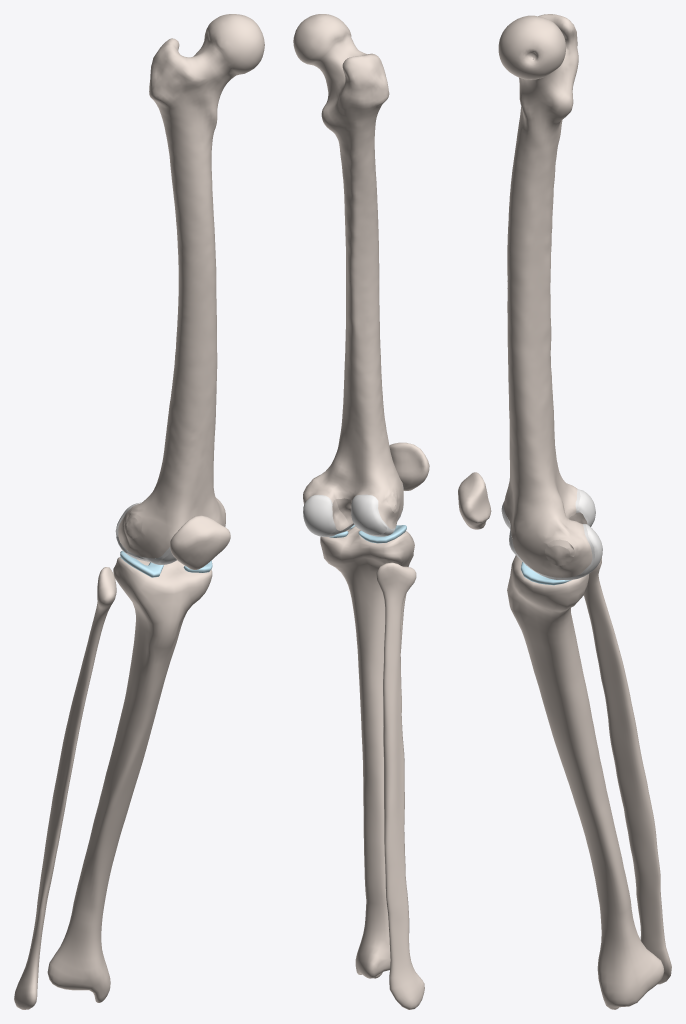
The model's file is knee-male-right.glb.
3 views of the same model, side by side, from view 1: azimuth 30°, elevation 25°; view 2: azimuth 150°, elevation 25°; view 3: azimuth 270°, elevation 25° (orthographic). The views are drawn at different scales.
Visible parts, largest first — view 1: VH_M_femur_R, VH_M_tibia_R, VH_M_fibula_R, VH_M_patella_R, VH_M_meniscus_R; view 2: VH_M_femur_R, VH_M_tibia_R, VH_M_fibula_R, VH_M_patella_R, VH_M_medial_condyle_of_right_femur_inf, VH_M_lateral_condyle_of_femur_inf_R, VH_M_meniscus_R, VH_M_articular_cartilage_of_knee_R; view 3: VH_M_femur_R, VH_M_tibia_R, VH_M_fibula_R, VH_M_patella_R, VH_M_articular_cartilage_of_knee_R.
Boxes of the visible parts, left/top/right/bottom form: VH_M_femur_R: left=118, top=14, right=264, bottom=558; VH_M_tibia_R: left=47, top=557, right=212, bottom=1002; VH_M_fibula_R: left=14, top=567, right=116, bottom=1009; VH_M_patella_R: left=170, top=515, right=230, bottom=569; VH_M_meniscus_R: left=120, top=550, right=212, bottom=577; VH_M_femur_R: left=293, top=14, right=403, bottom=528; VH_M_tibia_R: left=320, top=526, right=414, bottom=978; VH_M_fibula_R: left=376, top=562, right=424, bottom=1009; VH_M_patella_R: left=389, top=442, right=429, bottom=490; VH_M_medial_condyle_of_right_femur_inf: left=303, top=495, right=336, bottom=535; VH_M_lateral_condyle_of_femur_inf_R: left=351, top=495, right=386, bottom=534; VH_M_meniscus_R: left=329, top=525, right=406, bottom=543; VH_M_articular_cartilage_of_knee_R: left=315, top=484, right=403, bottom=536; VH_M_femur_R: left=498, top=14, right=592, bottom=577; VH_M_tibia_R: left=507, top=555, right=664, bottom=1009; VH_M_fibula_R: left=583, top=557, right=671, bottom=984; VH_M_patella_R: left=458, top=472, right=491, bottom=529; VH_M_articular_cartilage_of_knee_R: left=502, top=489, right=594, bottom=580.
Bounding box in the file's own units: 0.1734 × 0.8875 × 0.1646.
